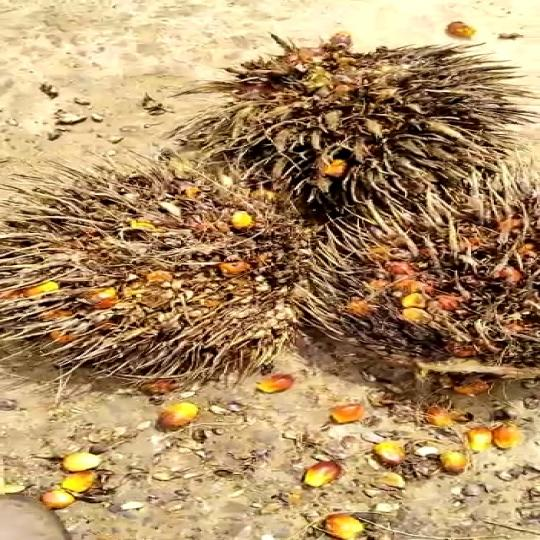terlalu masak: (0, 142, 322, 361), (194, 33, 511, 205)
